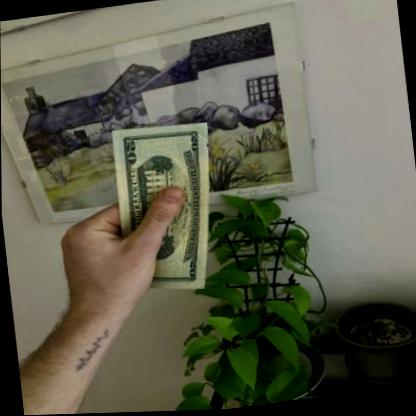twenty-back: (109, 118, 225, 300)
